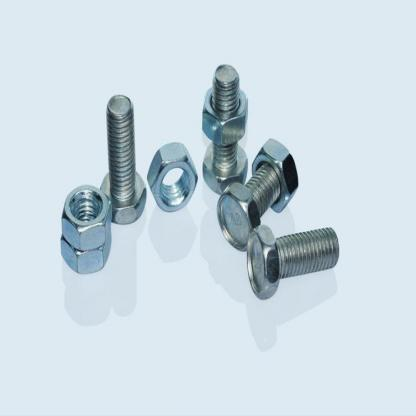FOD: (244, 222, 340, 300), (96, 89, 146, 225), (147, 140, 199, 214), (58, 184, 113, 253), (200, 84, 251, 146), (59, 220, 112, 277)
